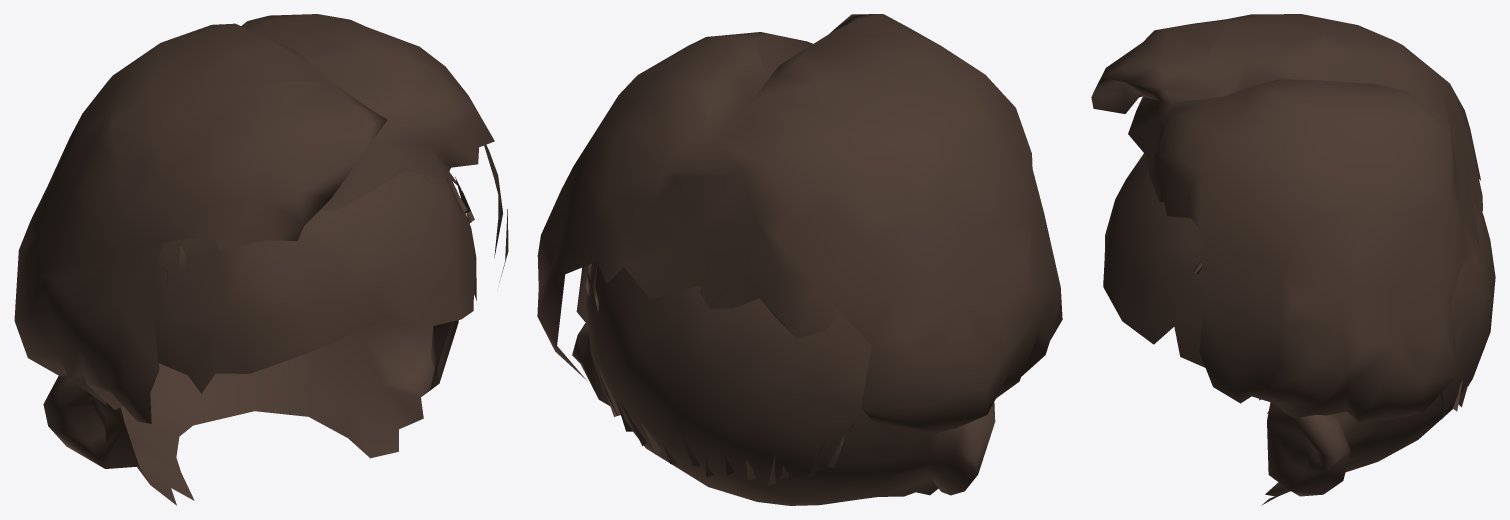
The model's file is bob.glb.
3 renders of one model, left to right at view 1: azimuth 30°, elevation 25°; view 2: azimuth 150°, elevation 25°; view 3: azimuth 270°, elevation 25°, orthographic. The views are drawn at different scales.
Visible parts, largest first — view 1: Hair, HairScalp, HairPulledRootStrands; view 2: Hair, HairScalp, HairPulledRootStrands; view 3: Hair, HairScalp.
Part boxes in pixels (x1,y1,x2,y2): Hair: (14,14,508,423); HairScalp: (43,171,476,505); HairPulledRootStrands: (167,172,474,282); Hair: (537,14,1062,437); HairScalp: (572,261,995,505); HairPulledRootStrands: (585,263,861,485); Hair: (1091,14,1482,424); HairScalp: (1103,153,1495,505).
Size of the model in its own units: 0.572 by 0.5057 by 0.4495.
